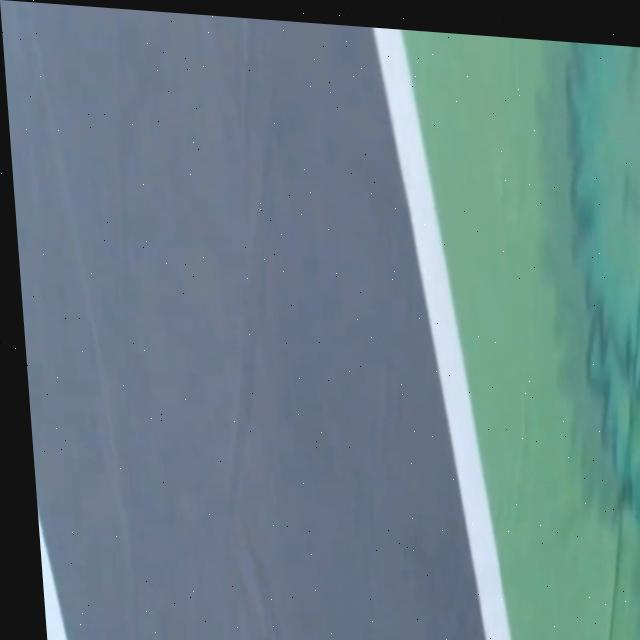right: (372, 28, 510, 640)
